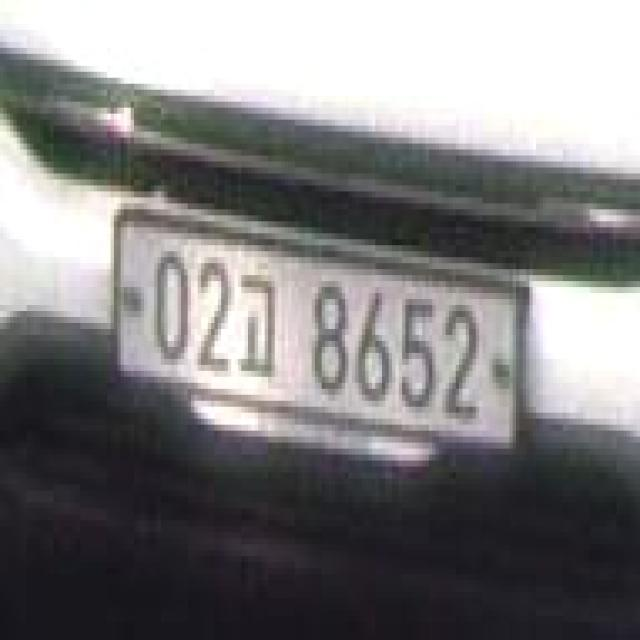illegal_plate: (106, 200, 531, 481)
